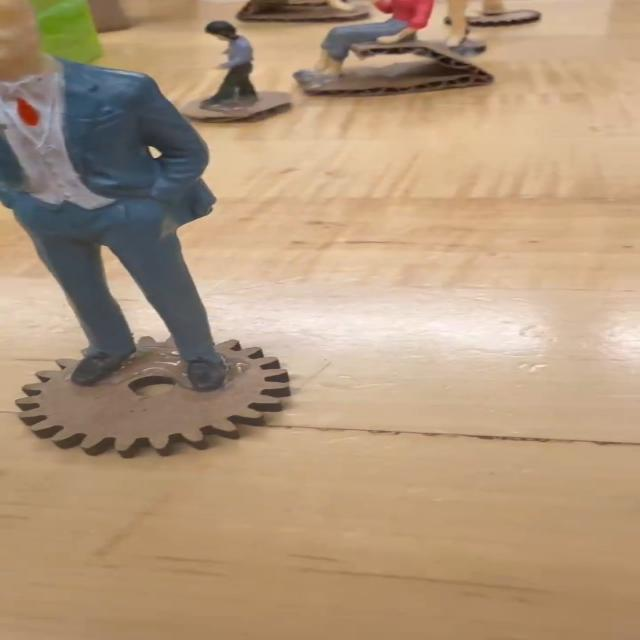Authorized: (0, 0, 238, 394)
